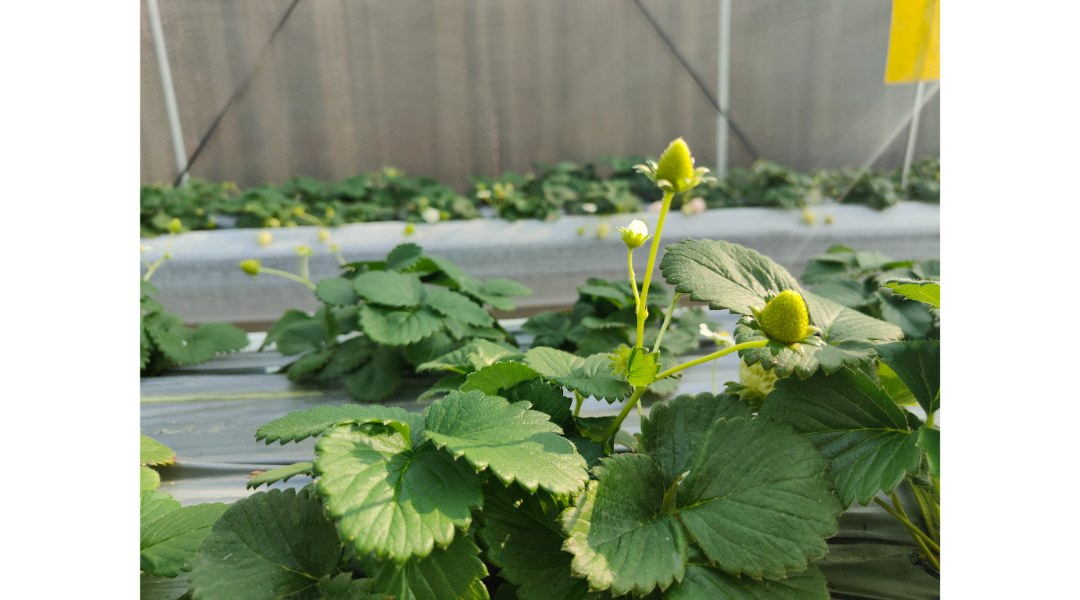berry: (636, 134, 710, 205), (744, 286, 815, 342)
flower: (612, 211, 647, 255)
strain: (657, 337, 757, 391), (647, 197, 678, 304)
